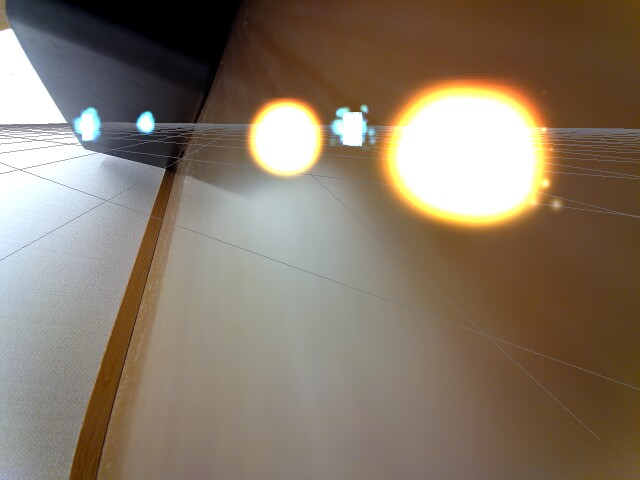fire: (378, 77, 556, 233), (244, 97, 325, 181)
